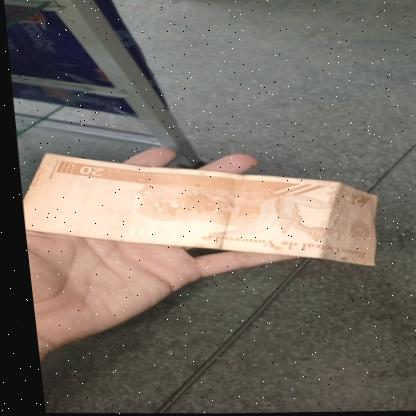twenty-back-vef: (13, 147, 379, 271)
